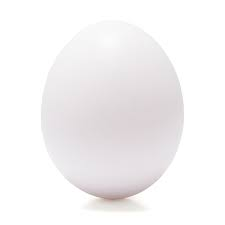eggs: (42, 19, 173, 200)
